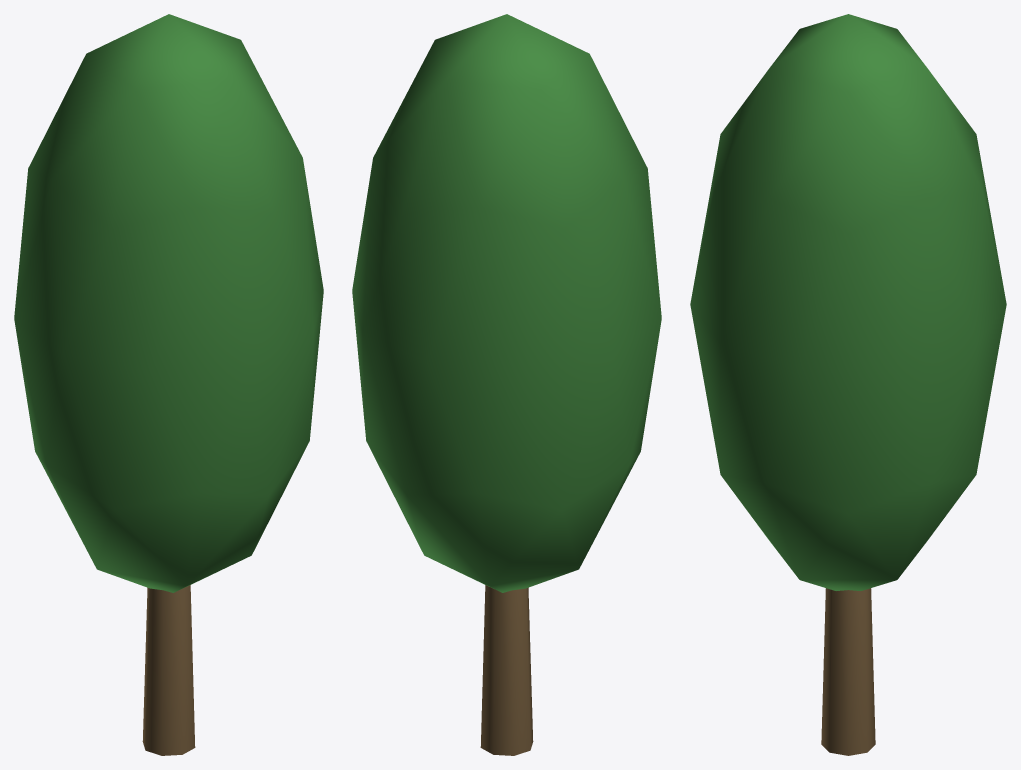
Rendered from Bush with less suck.glb.
3 renders of one model, left to right at view 1: azimuth 30°, elevation 25°; view 2: azimuth 150°, elevation 25°; view 3: azimuth 270°, elevation 25°, orthographic.
Visible parts, largest first — view 1: Cylinder; view 2: Cylinder; view 3: Cylinder.
Part boxes in pixels (x1=…): Cylinder: x1=14, y1=14, x2=323, y2=755; Cylinder: x1=352, y1=14, x2=661, y2=755; Cylinder: x1=690, y1=14, x2=1006, y2=755.
Size of the model in its own units: 1.39 by 3.74 by 1.47.
